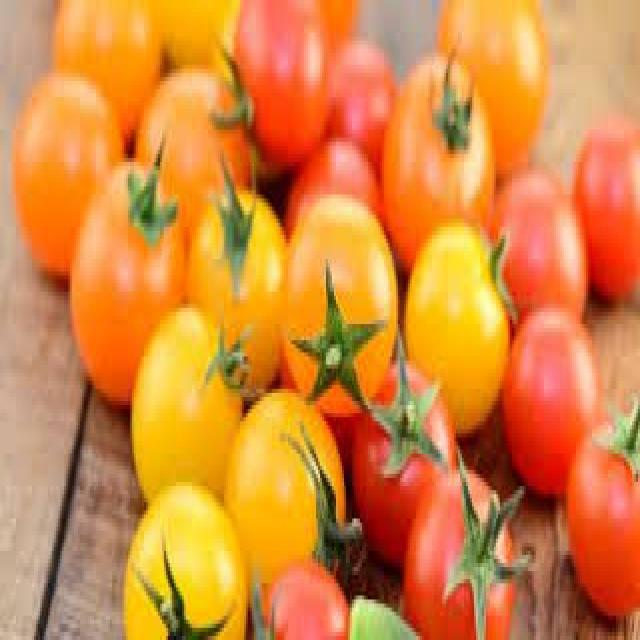organic waste: (68, 138, 184, 401), (228, 377, 356, 595), (280, 186, 396, 413), (398, 215, 514, 429), (378, 53, 494, 267), (126, 300, 248, 502), (400, 441, 526, 636), (346, 328, 450, 563), (134, 61, 256, 239), (12, 69, 118, 271), (186, 174, 286, 377), (120, 478, 246, 636), (502, 304, 600, 498), (436, 0, 546, 170), (488, 166, 588, 336), (52, 4, 162, 150), (228, 0, 326, 158), (562, 413, 638, 612), (570, 113, 638, 296), (282, 130, 380, 243), (324, 20, 392, 154), (246, 551, 348, 636), (148, 0, 236, 73), (314, 0, 354, 45)
